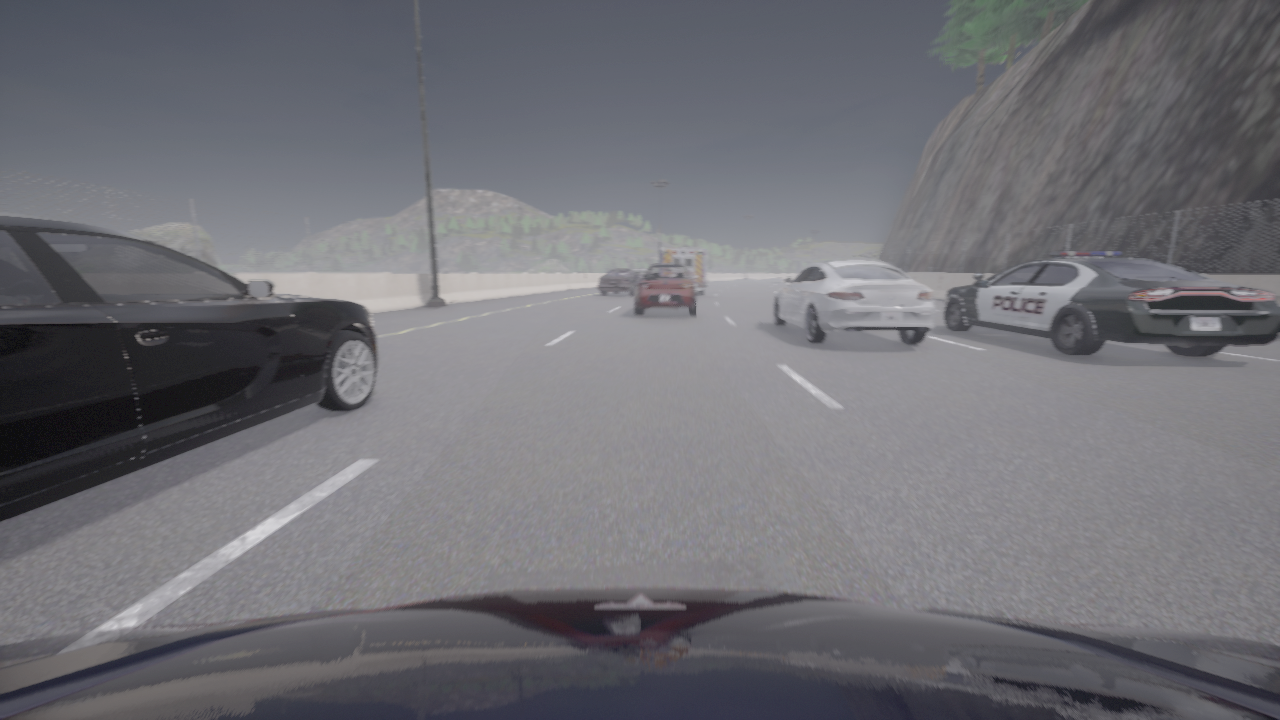cyclist: (0, 588, 1279, 719), (943, 252, 1279, 356), (772, 259, 934, 344), (634, 264, 696, 316), (660, 248, 710, 295), (598, 270, 640, 295), (634, 269, 646, 275)
